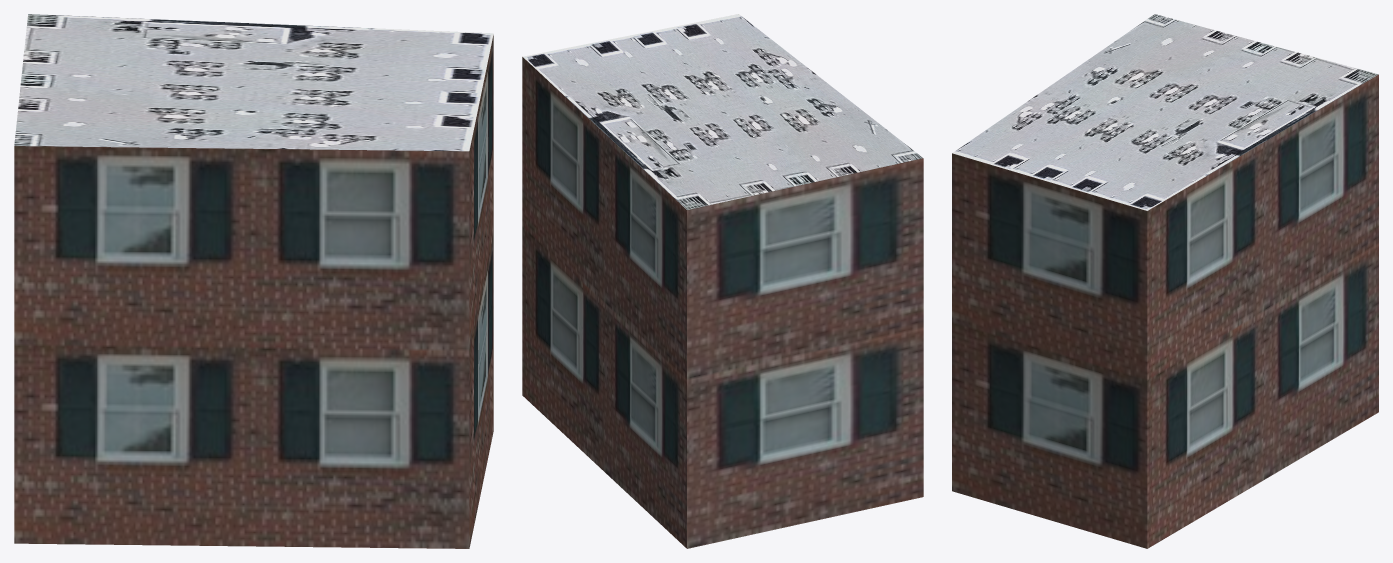
The model's file is ResTex__4380.fbx.
3 renders of one model, left to right at view 1: azimuth 30°, elevation 25°; view 2: azimuth 150°, elevation 25°; view 3: azimuth 270°, elevation 25°, orthographic. The views are drawn at different scales.
Parts seen in each view (by area): view 1: CityEngineMaterial_14_m, CityEngineMaterial_m; view 2: CityEngineMaterial_14_m, CityEngineMaterial_m; view 3: CityEngineMaterial_14_m, CityEngineMaterial_m.
Part boxes in pixels (x1=…): CityEngineMaterial_14_m: x1=14, y1=35, x2=493, y2=548; CityEngineMaterial_m: x1=14, y1=14, x2=493, y2=151; CityEngineMaterial_14_m: x1=522, y1=57, x2=923, y2=548; CityEngineMaterial_m: x1=523, y1=14, x2=922, y2=209; CityEngineMaterial_14_m: x1=952, y1=74, x2=1378, y2=548; CityEngineMaterial_m: x1=952, y1=14, x2=1378, y2=210.
Bounding box in the file's own units: 7.5 × 6 × 6.87.
Materials: 2 (2 with a texture image).
